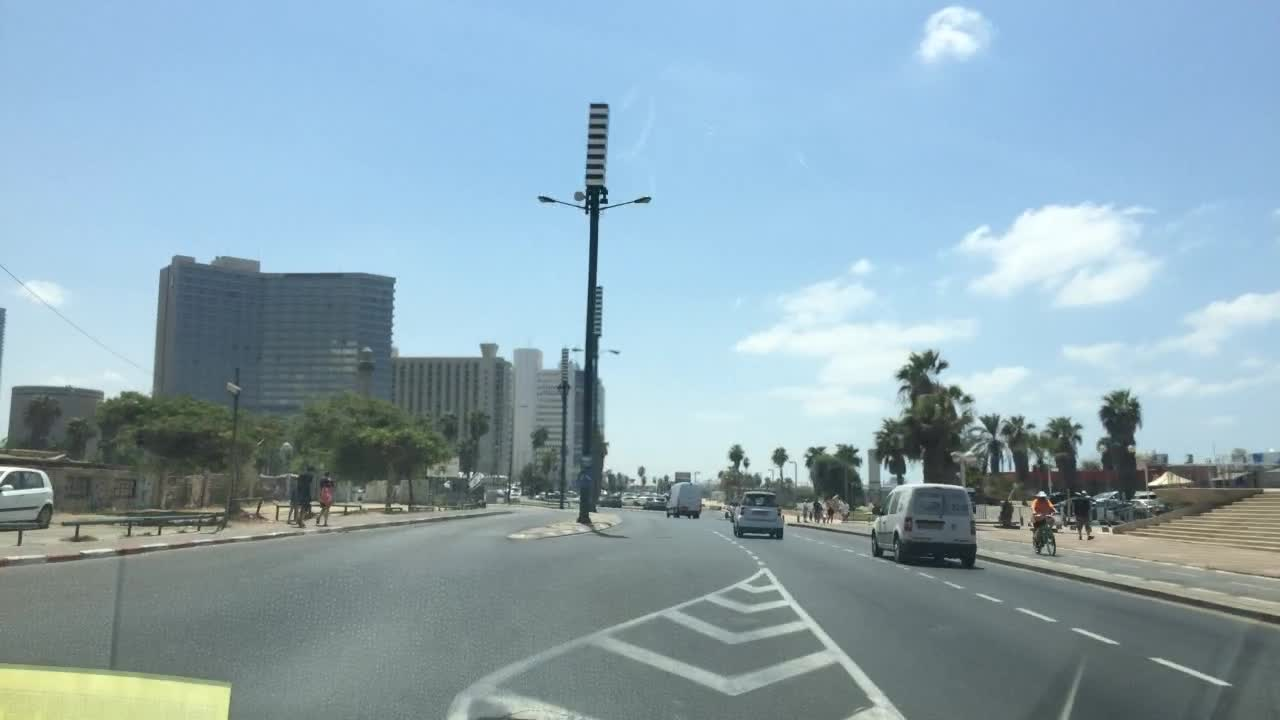bike: (1028, 512, 1057, 557)
car: (866, 480, 978, 571), (0, 464, 54, 531), (730, 490, 785, 540), (721, 496, 740, 523), (643, 494, 668, 511), (596, 493, 624, 507), (618, 493, 641, 506), (563, 489, 582, 503), (652, 491, 670, 501), (534, 491, 549, 501), (508, 493, 521, 504), (548, 489, 562, 499), (614, 490, 635, 496), (506, 485, 520, 494), (494, 485, 505, 496)
person: (1072, 489, 1096, 540), (315, 471, 334, 527), (297, 465, 313, 529), (810, 496, 823, 524), (839, 498, 850, 522), (801, 497, 808, 524), (827, 506, 833, 526)
rider: (1031, 490, 1057, 546)
truck: (664, 480, 702, 518)
